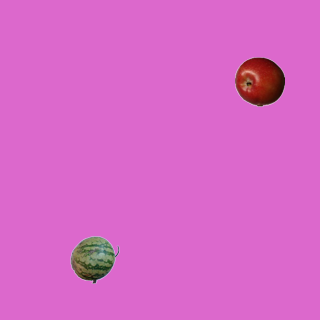Apple Braeburn: (234, 56, 284, 106)
Watermelon: (69, 234, 119, 284)
